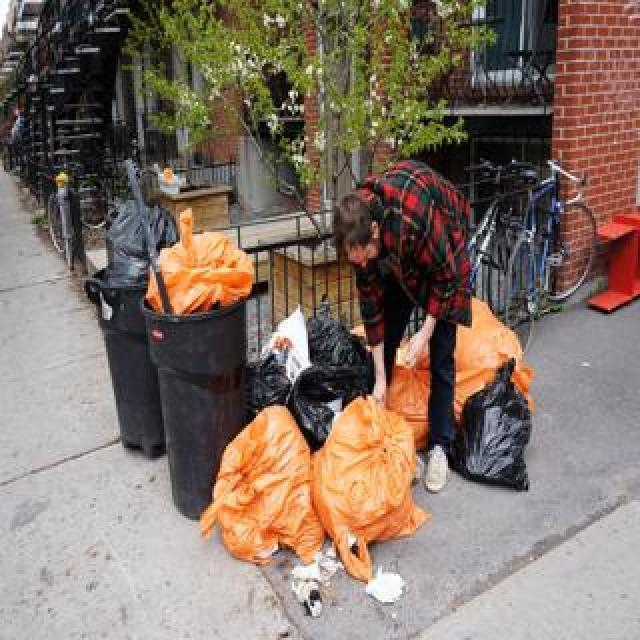Trashbag: (462, 385, 540, 485), (108, 204, 152, 276), (301, 306, 356, 356), (296, 371, 342, 422), (251, 361, 287, 398)
